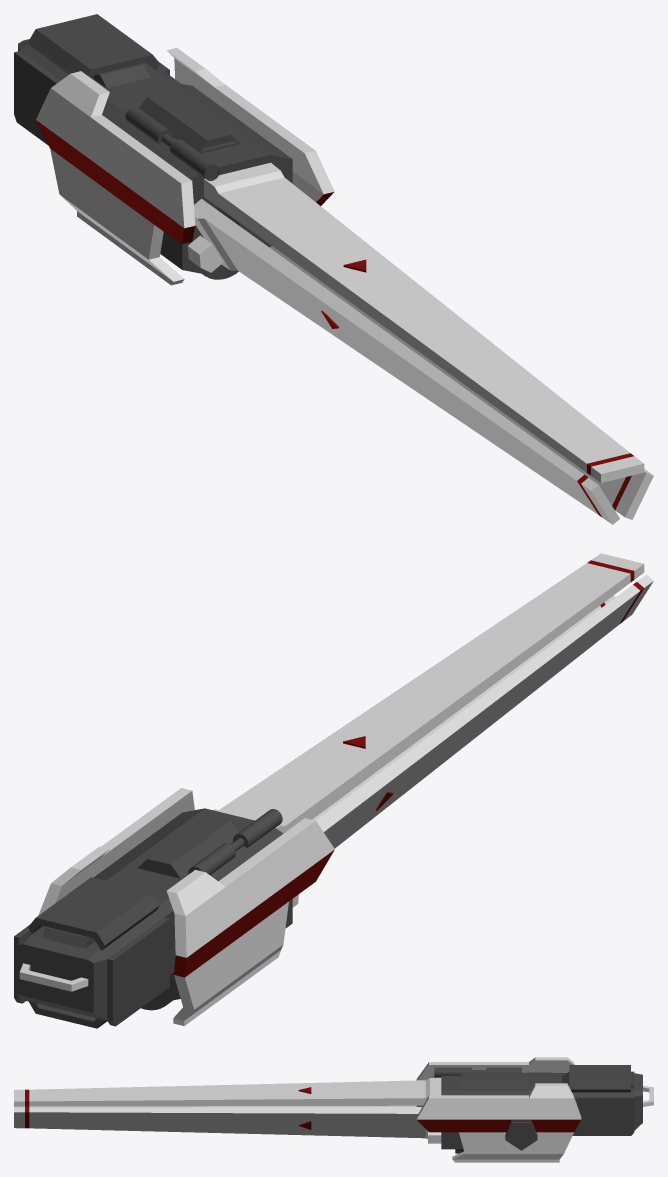
The model's file is Cannon_02(R).fbx.
3 views of the same model, one above another, from view 1: azimuth 30°, elevation 25°; view 2: azimuth 150°, elevation 25°; view 3: azimuth 270°, elevation 25° (orthographic). The views are drawn at different scales.
Visible parts, largest first — view 1: Cube.003; view 2: Cube.003; view 3: Cube.003.
Part boxes in pixels (box(x1,y1,x2,y2)): Cube.003: box(14, 14, 653, 524); Cube.003: box(14, 553, 653, 1028); Cube.003: box(14, 1057, 653, 1162).
Bounding box in the file's own units: 31.26 × 27.07 × 196.
